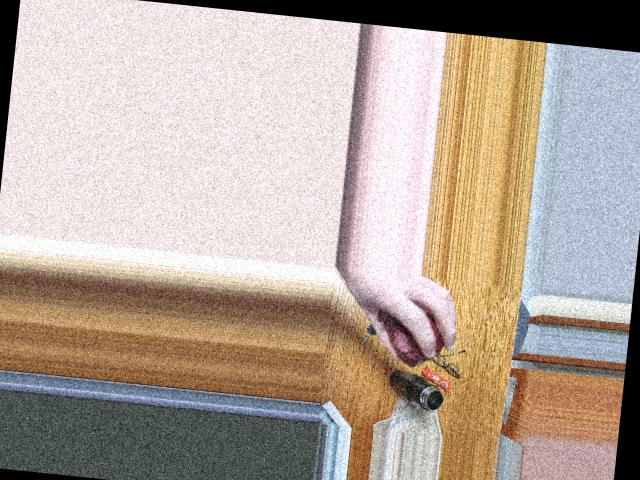onion: (389, 310, 448, 365)
